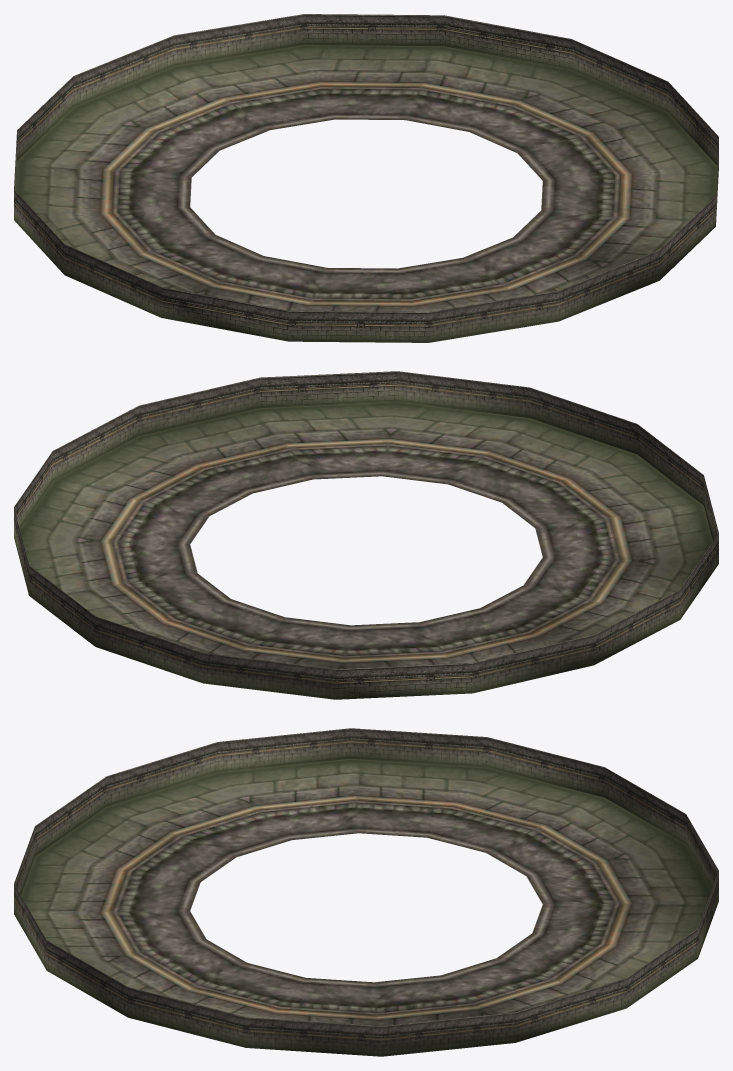
The model's file is jjc_mx_lan.FBX.
3 views of the same model, one above another, from view 1: azimuth 30°, elevation 25°; view 2: azimuth 150°, elevation 25°; view 3: azimuth 270°, elevation 25° (orthographic).
Visible parts, largest first — view 1: jjx_mx_lan; view 2: jjx_mx_lan; view 3: jjx_mx_lan.
Boxes of the visible parts, x1,y1,x2,y2 form: jjx_mx_lan: [14, 14, 718, 342]; jjx_mx_lan: [14, 371, 718, 699]; jjx_mx_lan: [14, 728, 718, 1056].
Size of the model in its own units: 5713 by 274 by 5713.
